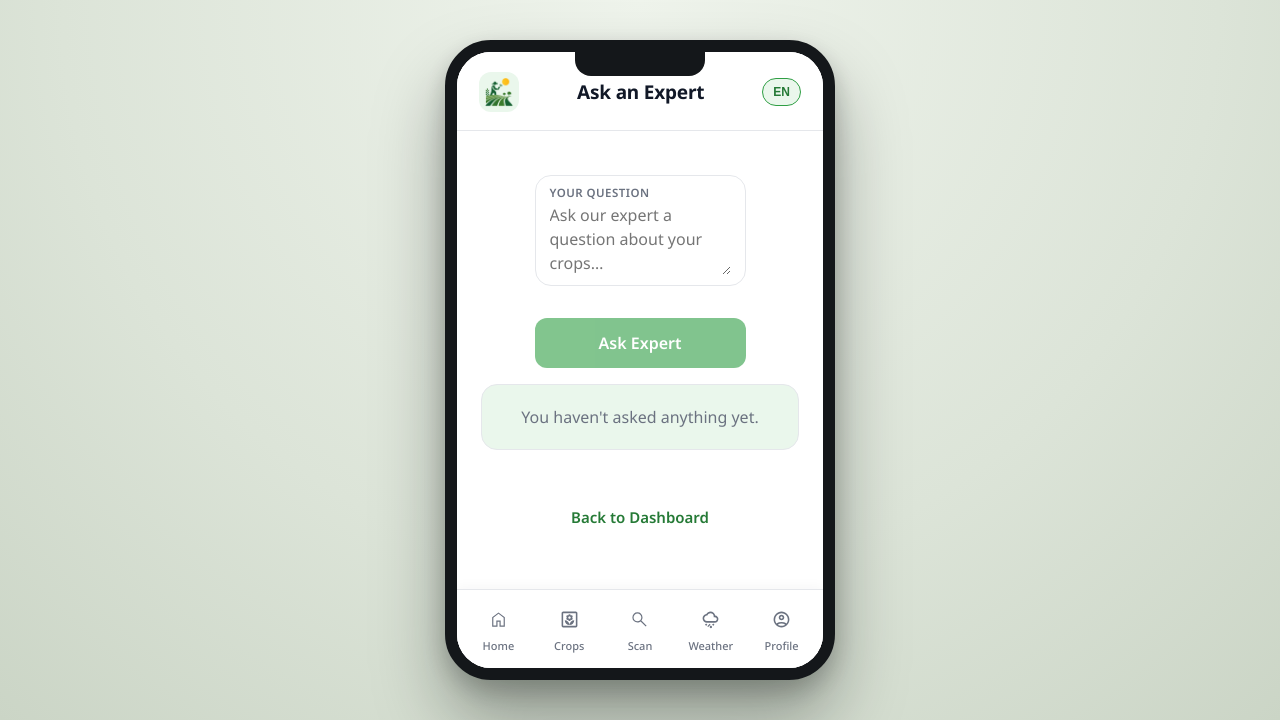
Test: AdvisoryPage — farmer view › lets a farmer submit a question and shows a success message
This screenshot has width=1280, height=720.
Type "How do I treat pollu disease?" into the text box with placeholder "Ask our expert a question about your crops…" at x=640, y=239, box 550,203 -> 730,275
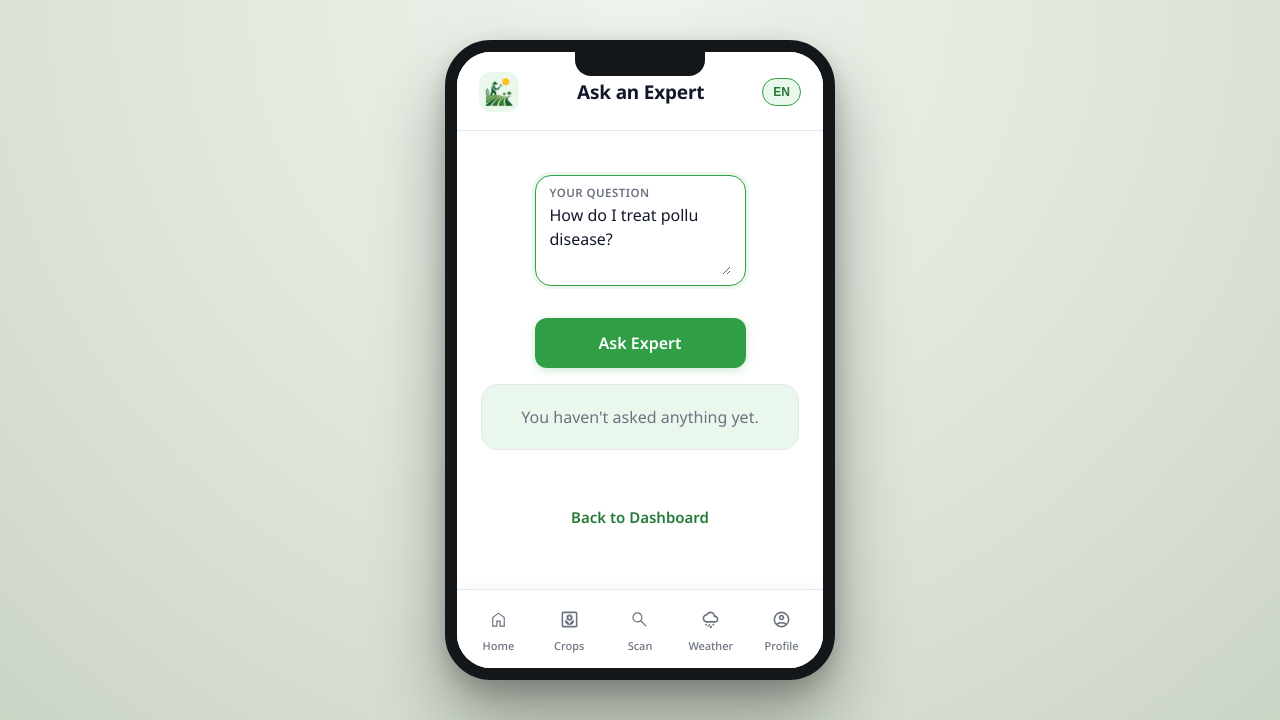
Click the button "Ask Expert" at x=640, y=343, box 534,318 -> 746,368
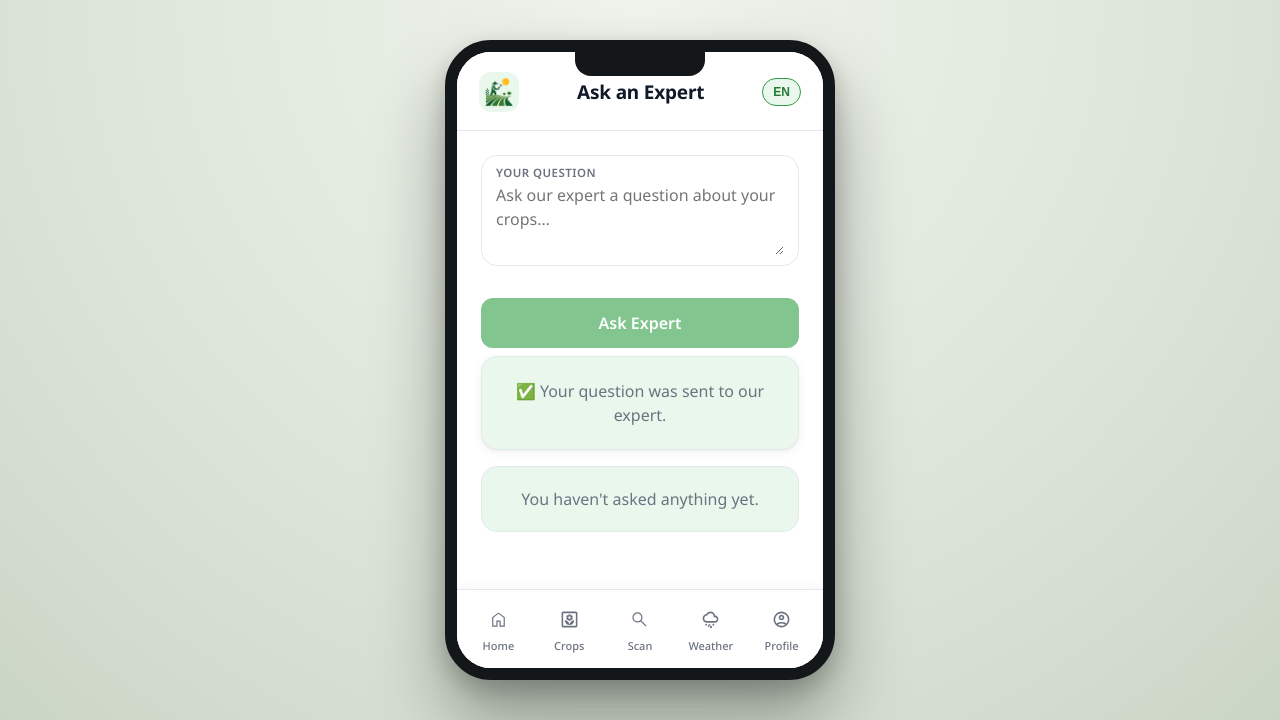
Now the text "✅ Your question was sent to our expert." is shown, box 506,379 -> 774,427
